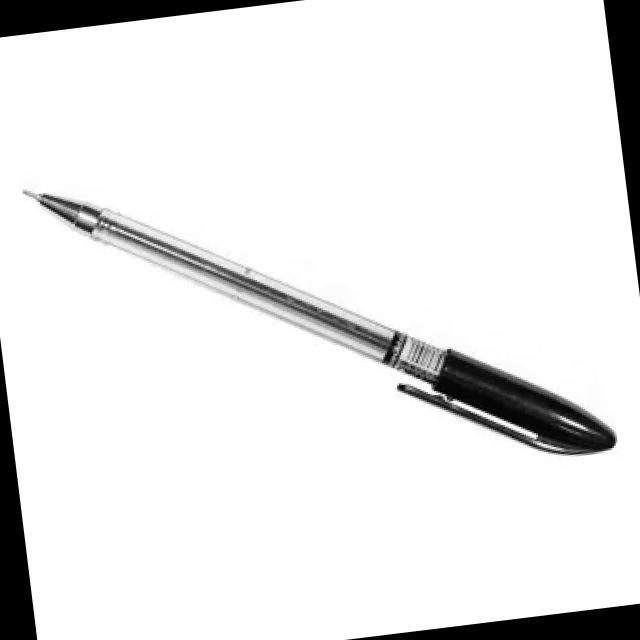pencil: (16, 161, 635, 486)
